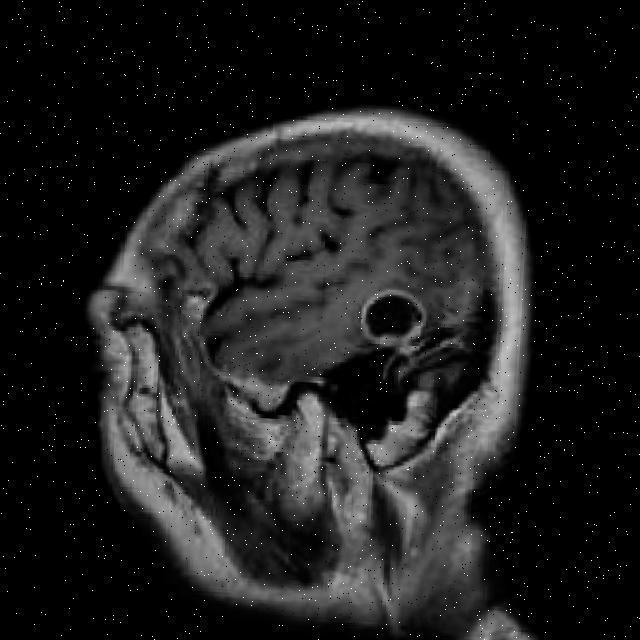EMCI: (349, 280, 456, 370)
